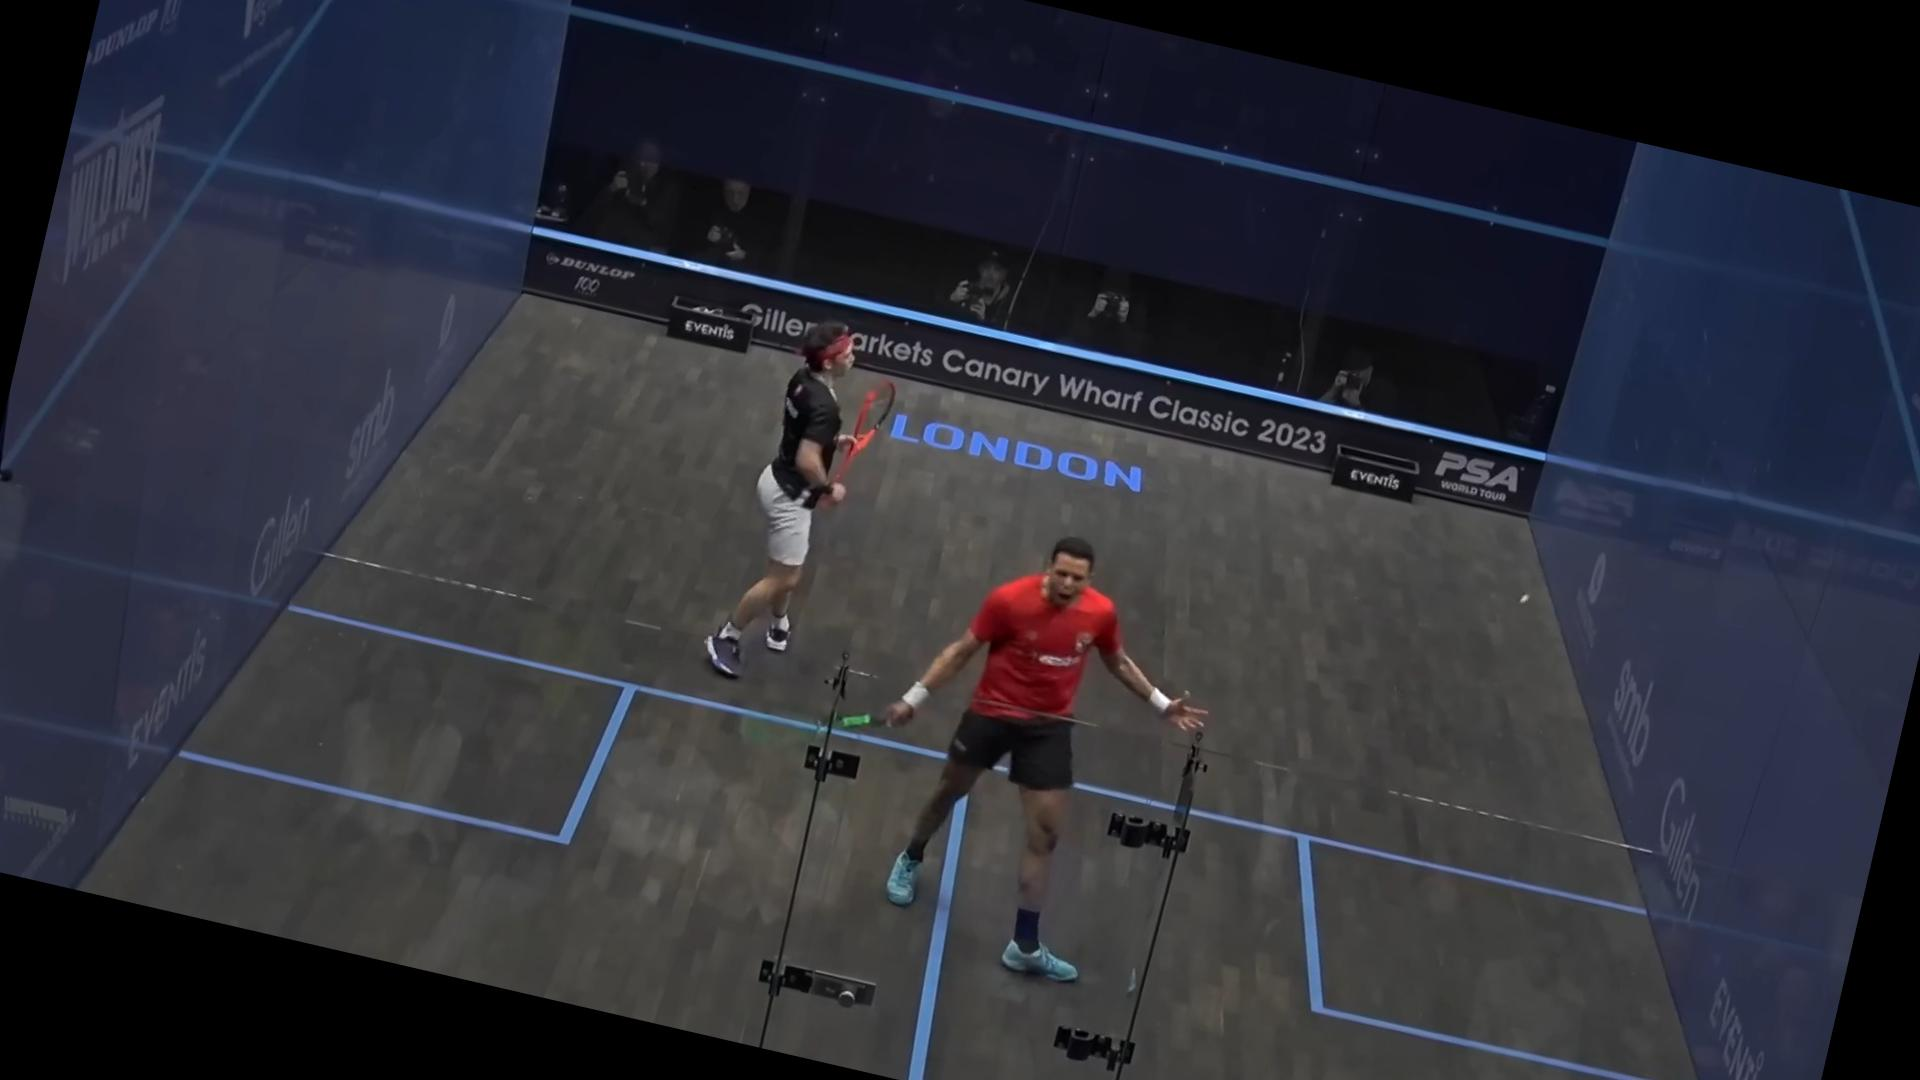Racket: (832, 364, 913, 497)
